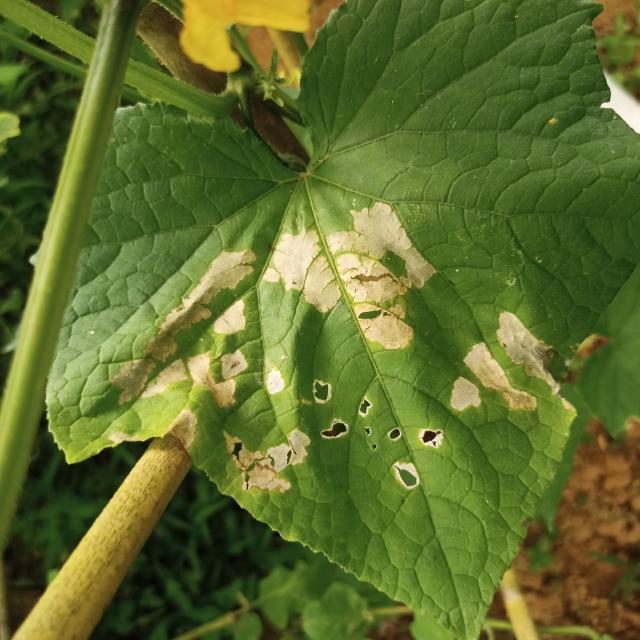disease_cucumber: (111, 202, 573, 492)
